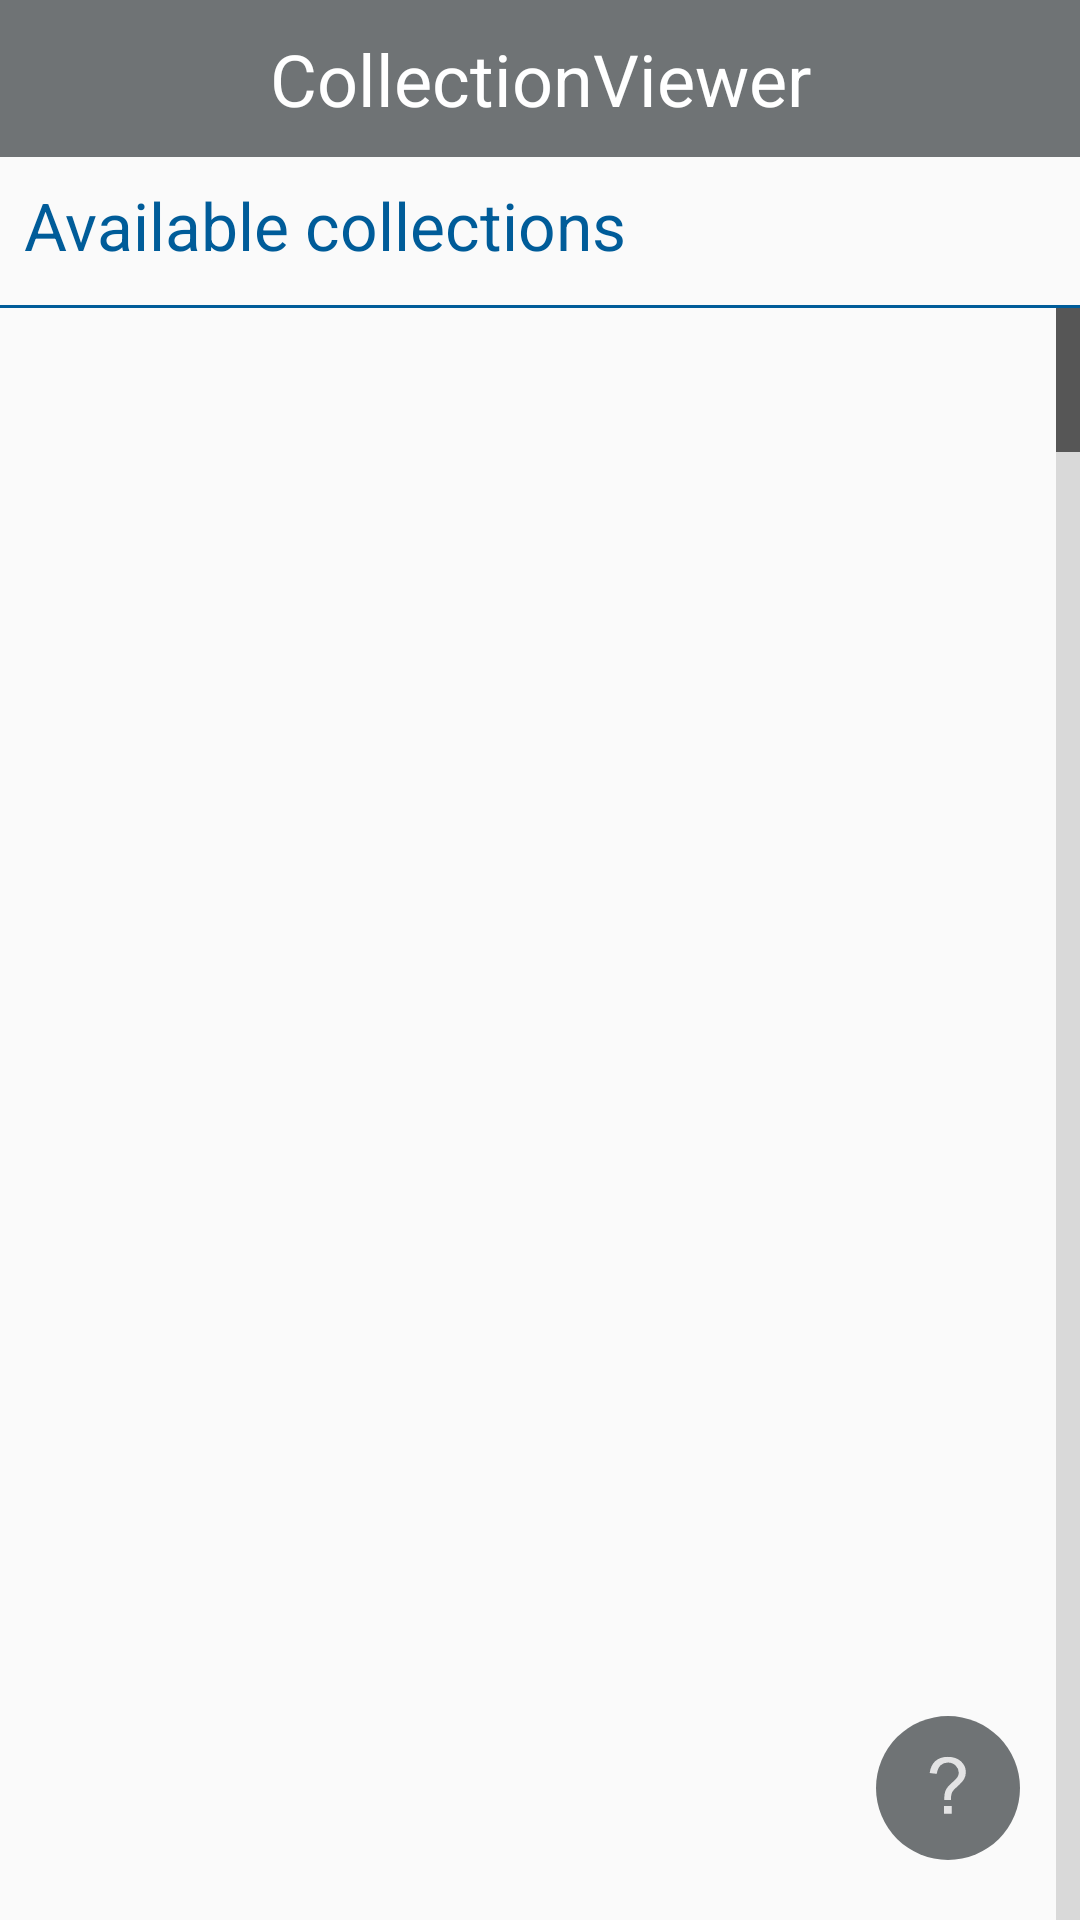

Where icons sit on this 1080×1920 app screen, as bbox=[x1, y1, x2, y2]:
Help: bbox=[876, 1716, 1020, 1860]
